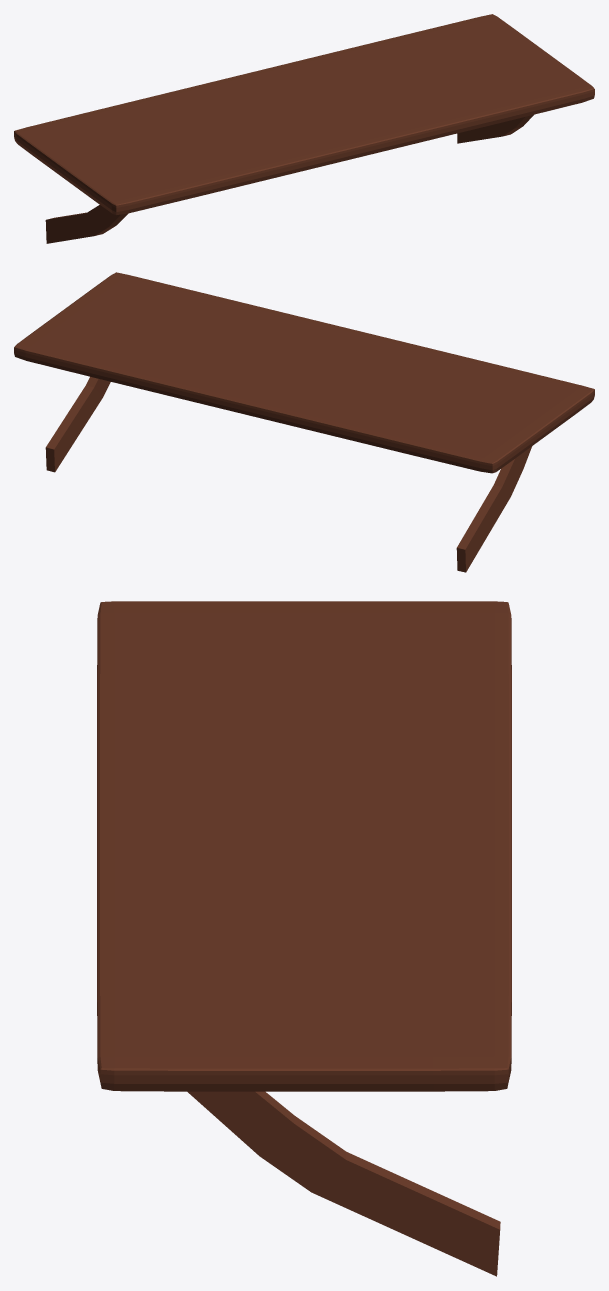
File: Shelf.fbx
The picture shows the model from 3 angles, top to bottom: view 1: azimuth 30°, elevation 25°; view 2: azimuth 150°, elevation 25°; view 3: azimuth 270°, elevation 25°; orthographic projection. The views are drawn at different scales.
Parts seen in each view (by area): view 1: Shelf; view 2: Shelf; view 3: Shelf.
Boxes of the visible parts, x1=… form: Shelf: x1=14, y1=14, x2=594, y2=243; Shelf: x1=14, y1=272, x2=594, y2=572; Shelf: x1=97, y1=601, x2=511, y2=1276.
Size of the model in its own units: 402 by 94.78 by 150.
